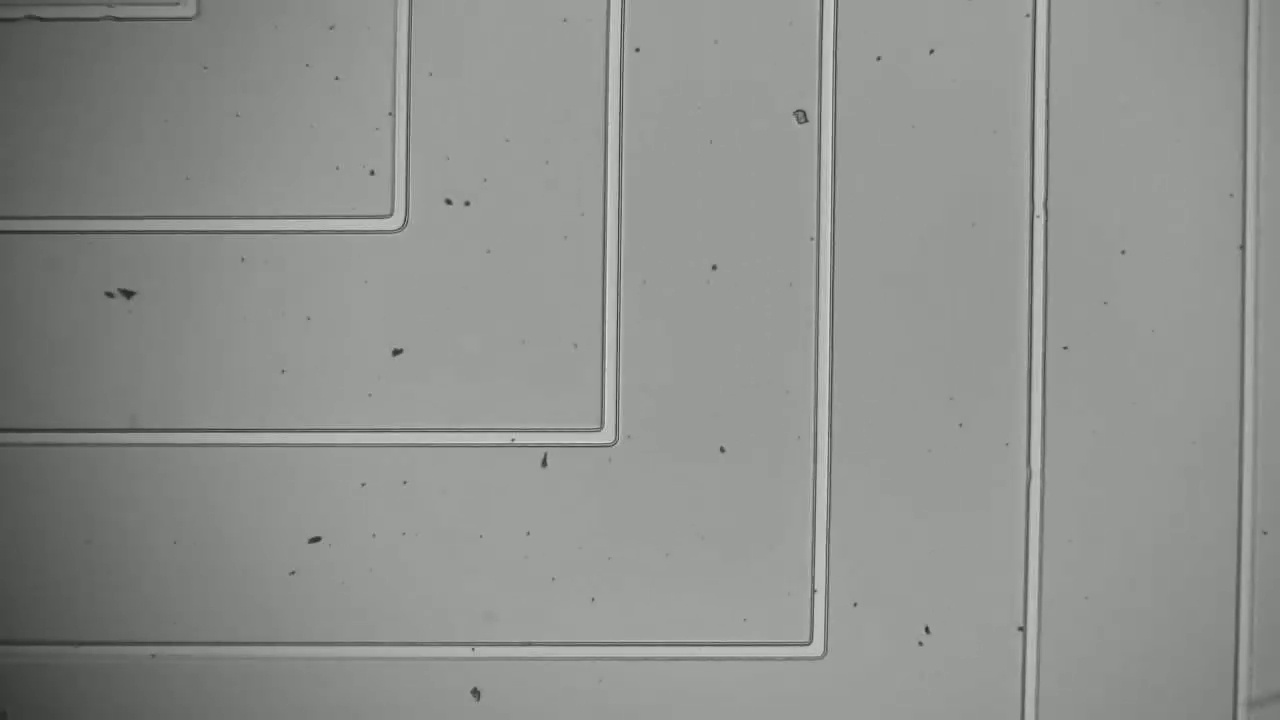edge_bite: (89, 0, 125, 32), (16, 0, 48, 32)
